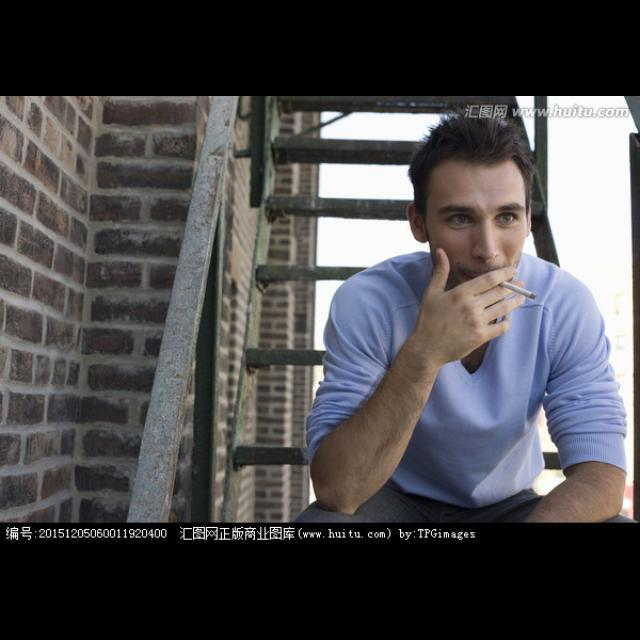rokok: (497, 280, 538, 304)
